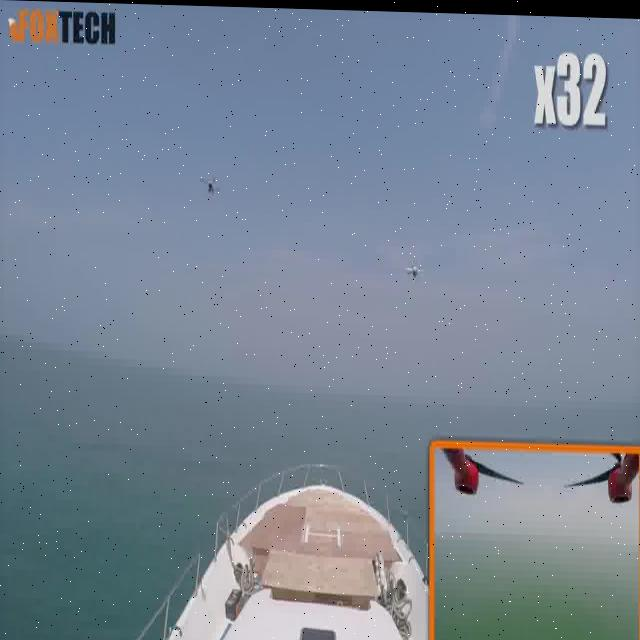drone: (189, 161, 229, 214), (400, 246, 428, 293)
